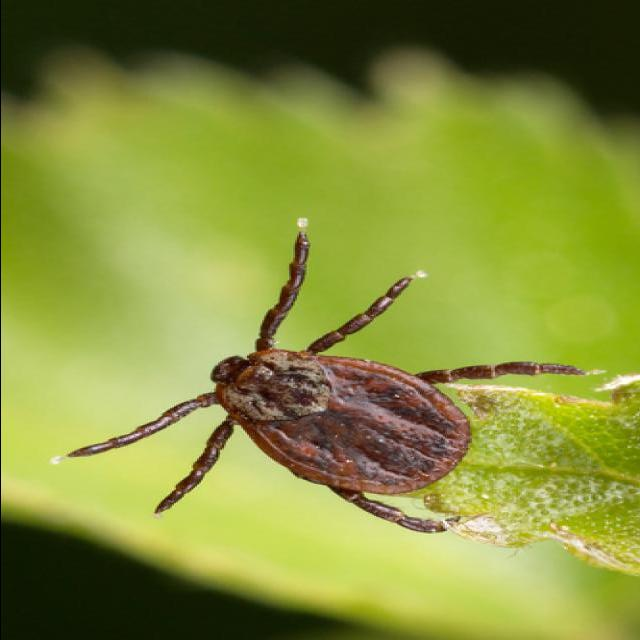Dermacentor Reticulatus-F: (63, 218, 580, 536)
